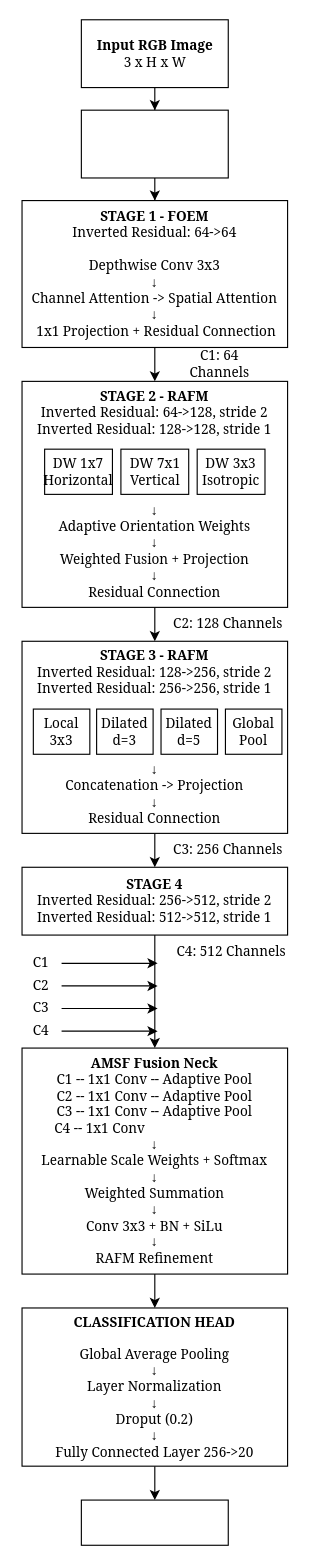
The diagram is 310 pixels wide and 1565 high, and some of its shapes have lost their labels. The centre of each missing label's shape, as x and y in pixels:
20-Class Output: point 154,1522
STEM Conv 3x3, s=2: 3->32 Conv 3x3, s=1: 32->64: point 154,143
